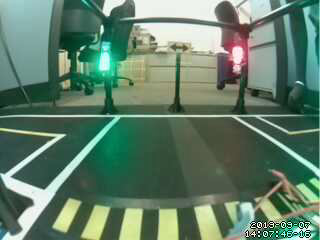Left_Right_sign: (161, 40, 197, 55)
Traffic_light_green: (99, 41, 110, 74)
Traffic_light_red: (232, 47, 243, 73)
